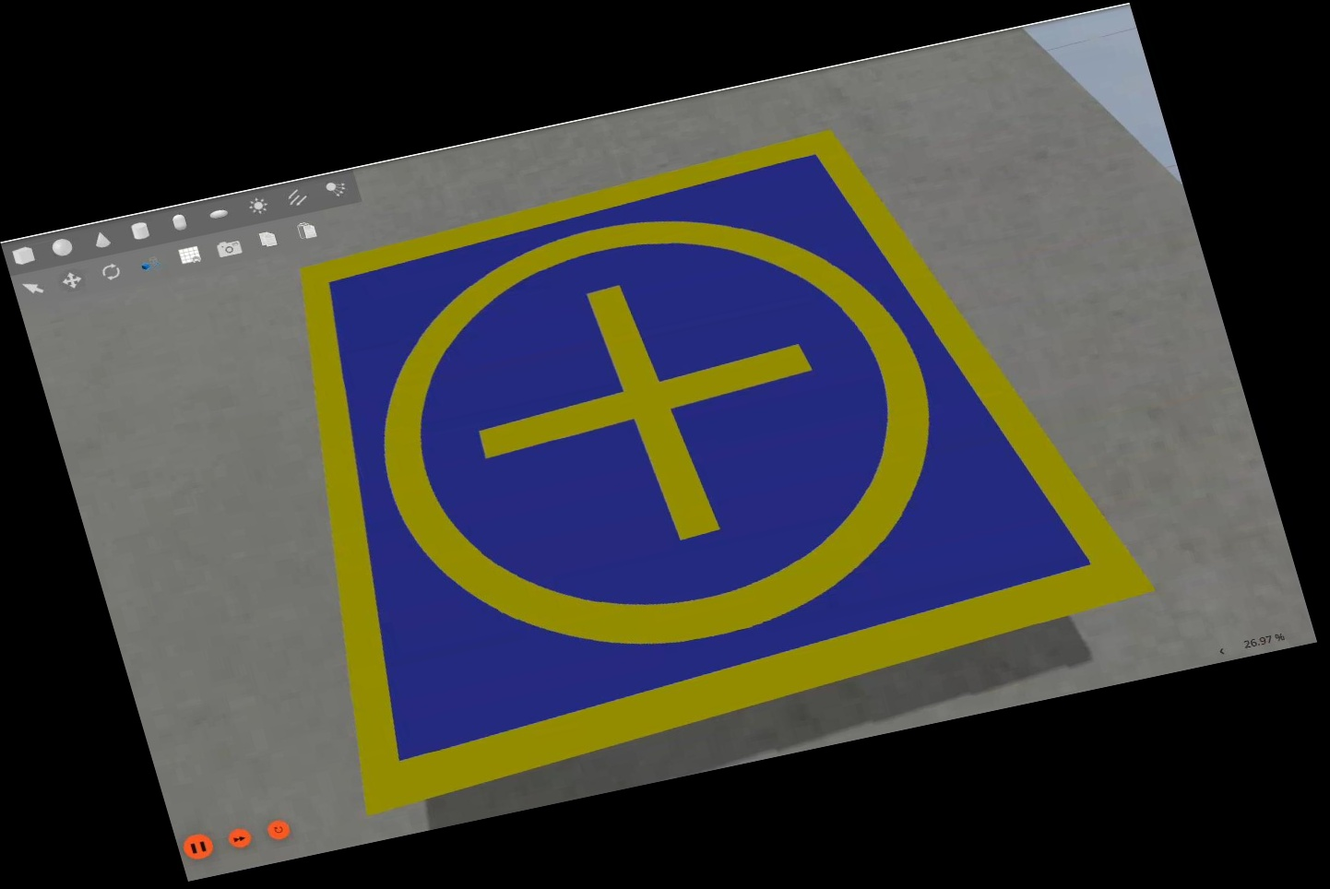small_base: (196, 91, 1177, 822)
